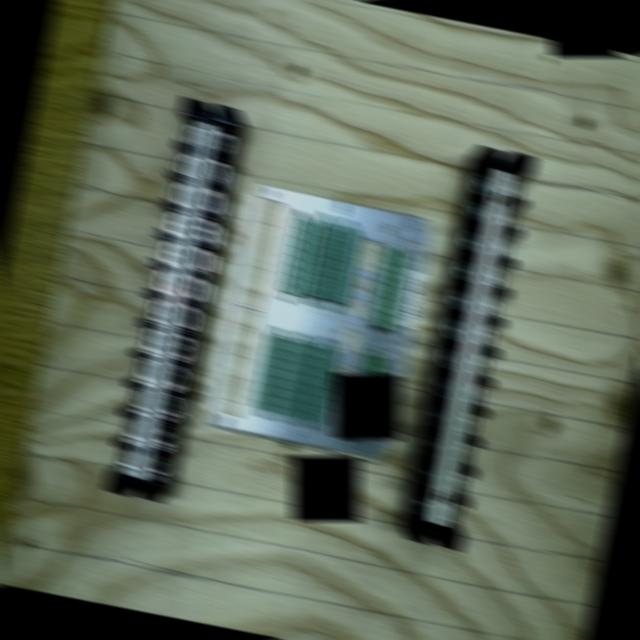Flathead_Block: (404, 145, 537, 550)
Phillips_Block: (103, 97, 240, 503)
Terminal_1: (371, 246, 409, 330), (350, 353, 387, 437)
Terminal_2: (300, 218, 337, 298), (301, 344, 337, 424), (276, 339, 312, 419), (252, 333, 288, 413), (324, 224, 360, 303)
